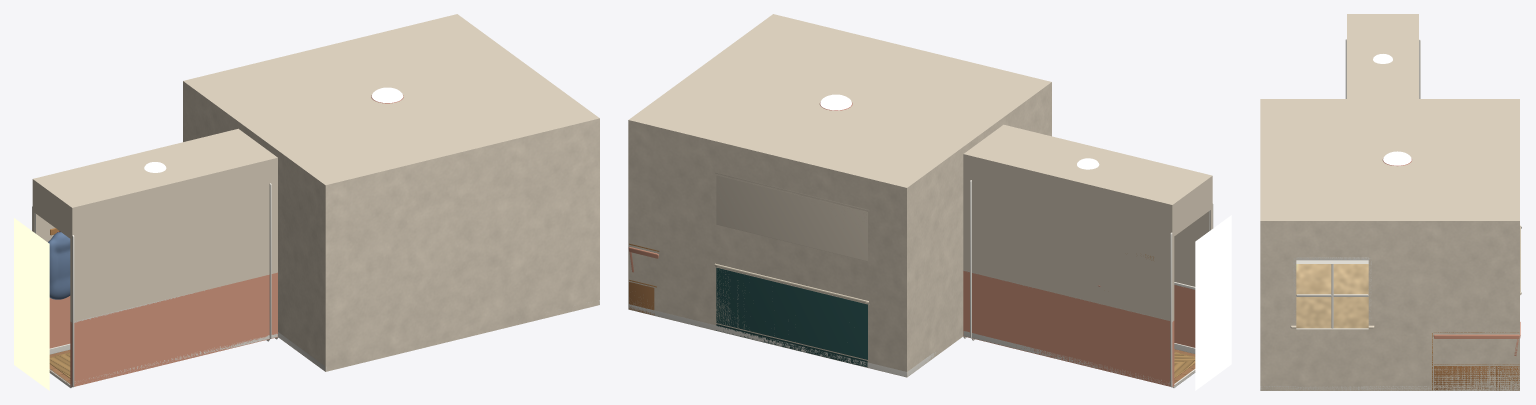
The model's file is breakfast_room.glb.
3 renders of one model, left to right at view 1: azimuth 30°, elevation 25°; view 2: azimuth 150°, elevation 25°; view 3: azimuth 270°, elevation 25°, orthographic. The views are drawn at different scales.
Visible parts, largest first — view 1: FrontPaint0, Ceiling, HallSouthPaint0, HallSouthDado0, LeftPaint0, HallCeiling, PorchLight, LeftPaint2, Coat, HallEndPaint1, HallNorthDado0, FrontDoorCasing; view 2: Ceiling, BackPaint0, HallNorthPaint0, HallNorthDado0, LeftPaint2, Carcass, HallCeiling, Uppers, PorchLight, LeftPaint0, HallSouthPaint0, BackSkirt0 (+7 smaller); view 3: Ceiling, RightPaint0, RightPaint3, HallCeiling, WindowSky, RightPaint1, RightPaint2, BoxRun, RightSkirt0, BoxCorner, WindowCasing, BackRight (+3 smaller).
Part boxes in pixels (x1,y1,x2,y2): FrontPaint0: (325, 118, 599, 371); Ceiling: (183, 14, 599, 185); HallSouthPaint0: (72, 158, 277, 321); HallSouthDado0: (74, 272, 277, 386); LeftPaint0: (276, 149, 325, 371); HallCeiling: (33, 128, 277, 207); PorchLight: (14, 218, 49, 390); LeftPaint2: (183, 81, 240, 141); Coat: (48, 232, 70, 299); HallEndPaint1: (34, 181, 70, 238); HallNorthDado0: (49, 296, 70, 348); FrontDoorCasing: (32, 206, 74, 388); Ceiling: (629, 14, 1051, 187); BackPaint0: (628, 120, 906, 377); HallNorthPaint0: (963, 154, 1172, 320); HallNorthDado0: (963, 271, 1170, 386); LeftPaint2: (907, 146, 965, 377); Carcass: (716, 267, 867, 359); HallCeiling: (964, 124, 1211, 204); Uppers: (716, 175, 867, 261); PorchLight: (1195, 215, 1231, 390); LeftPaint0: (1001, 82, 1051, 136); HallSouthPaint0: (1174, 211, 1209, 286); BackSkirt0: (628, 304, 907, 376); Ceiling: (1260, 99, 1519, 220); RightPaint0: (1368, 221, 1519, 390); RightPaint3: (1260, 221, 1296, 390); HallCeiling: (1347, 14, 1418, 98); WindowSky: (1296, 264, 1368, 328); RightPaint1: (1296, 329, 1368, 390); RightPaint2: (1296, 221, 1368, 259); BoxRun: (1434, 366, 1489, 390); RightSkirt0: (1261, 386, 1518, 390); BoxCorner: (1490, 366, 1519, 390); WindowCasing: (1293, 257, 1371, 324); BackRight: (1433, 334, 1519, 338).
Size of the model in its own units: 7.42 by 2.74 by 3.62.
Materials: 87 (16 with a texture image).
